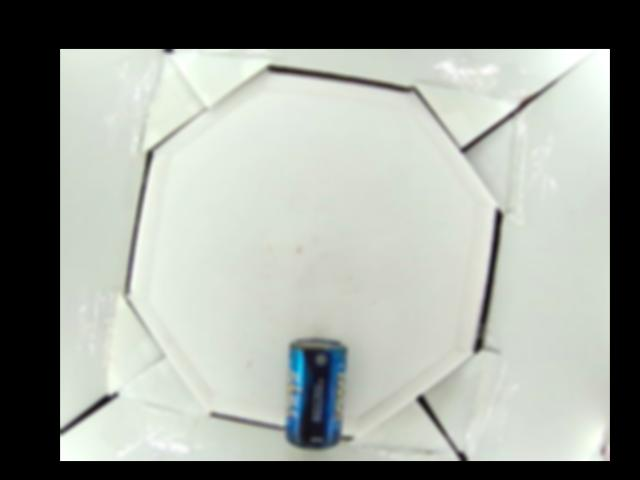Battery: (285, 338, 346, 448)
